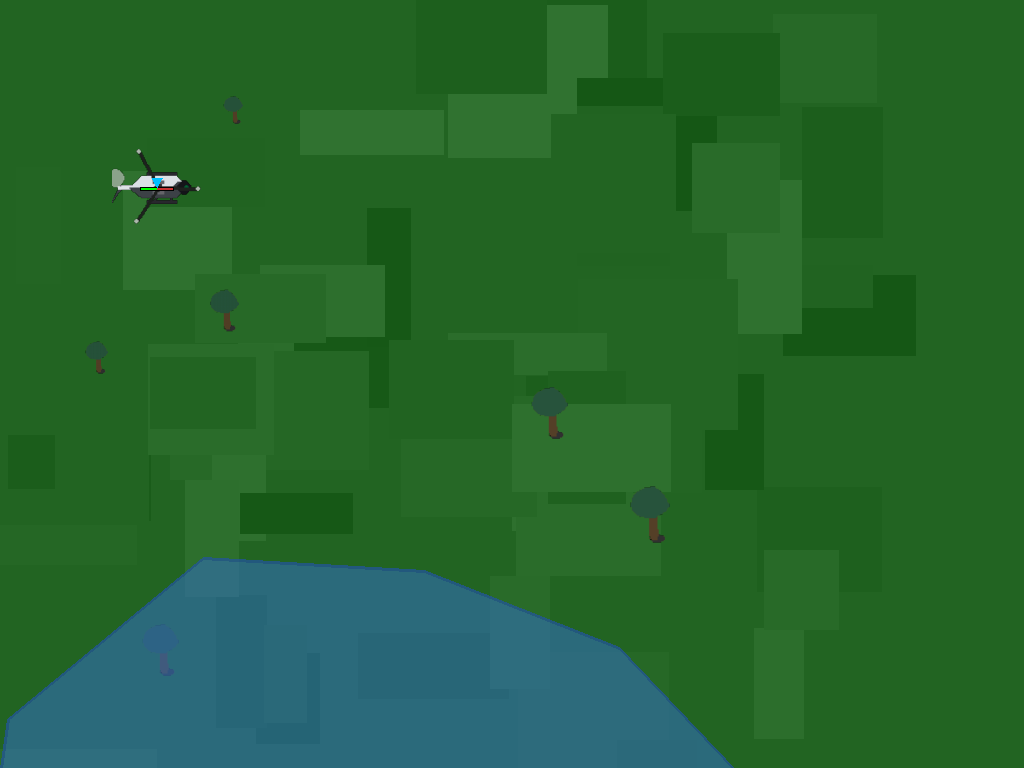Helicopter: (134, 163, 180, 209)
Lake: (0, 558, 804, 768)
